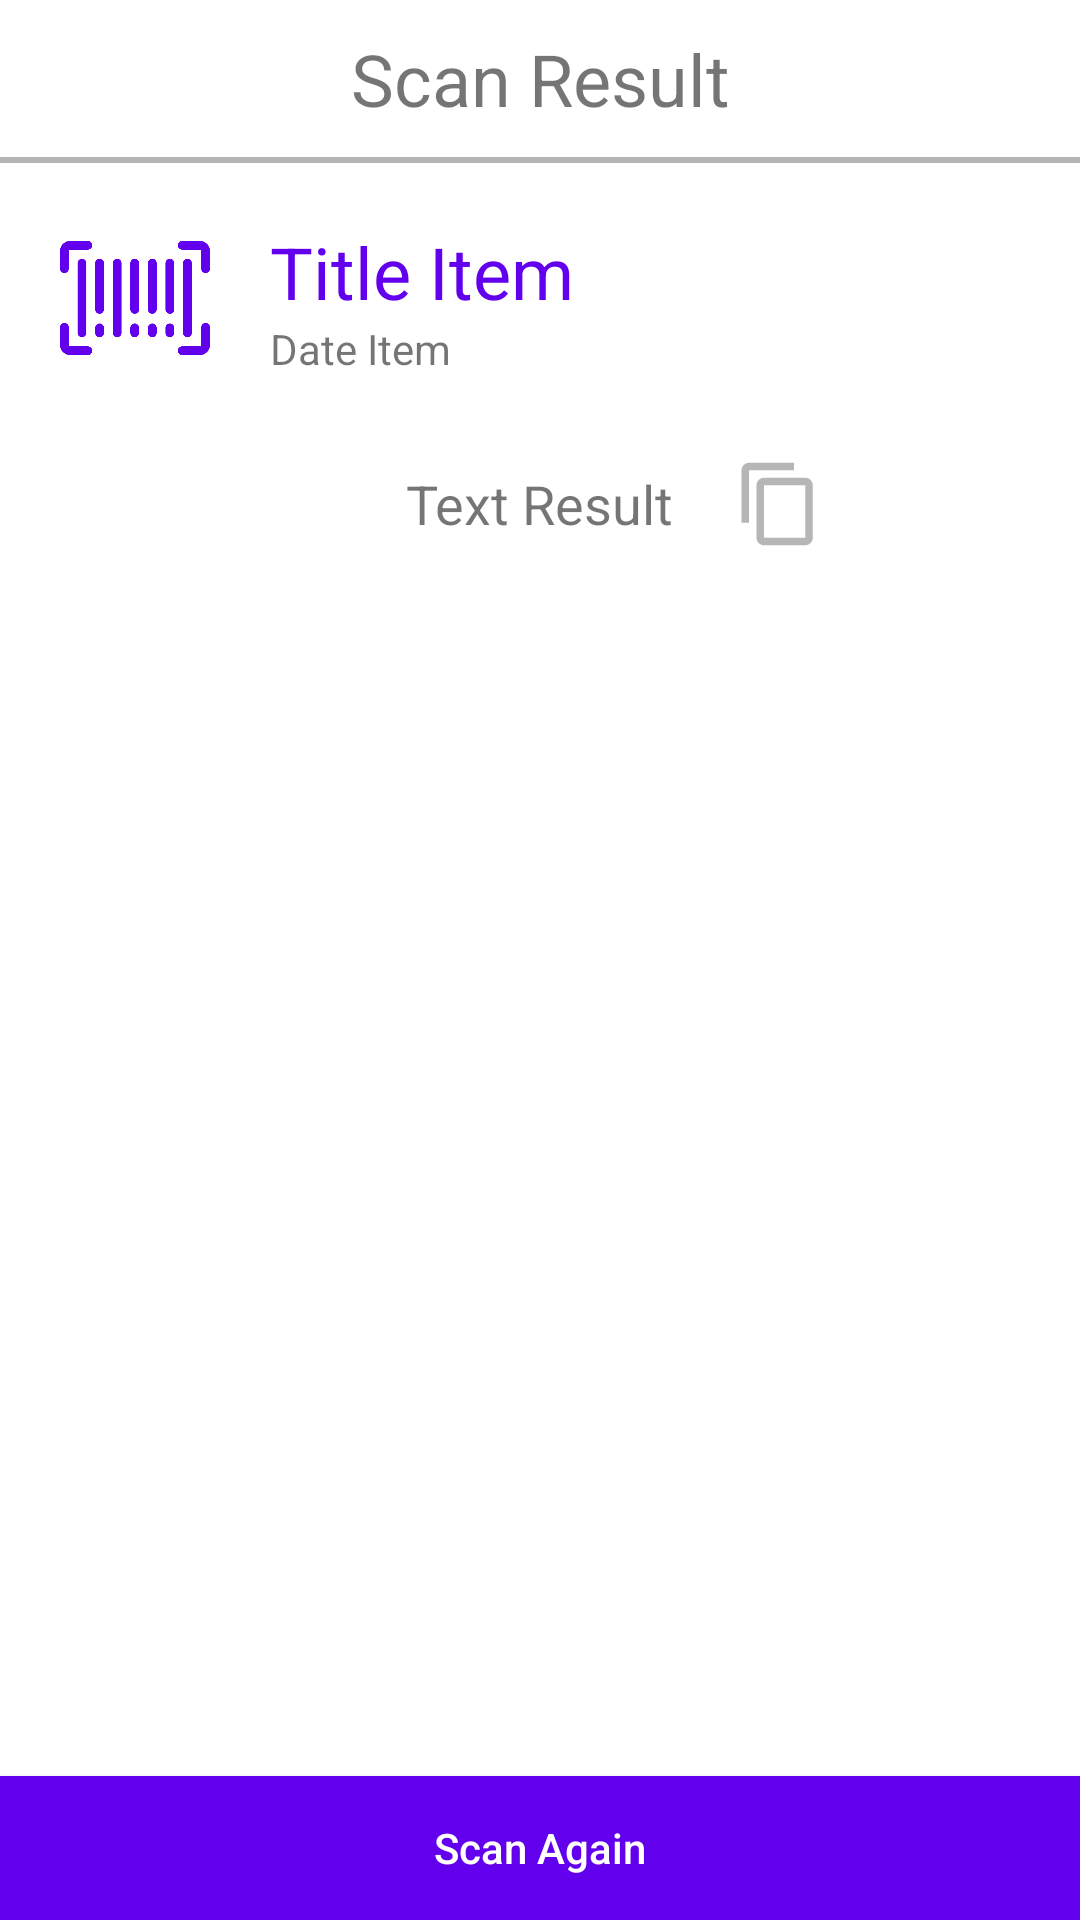

Icon click points for this 1080px x 1920px phone screenshot, format (x=x, y=y):
barcode: (x=135, y=298)
